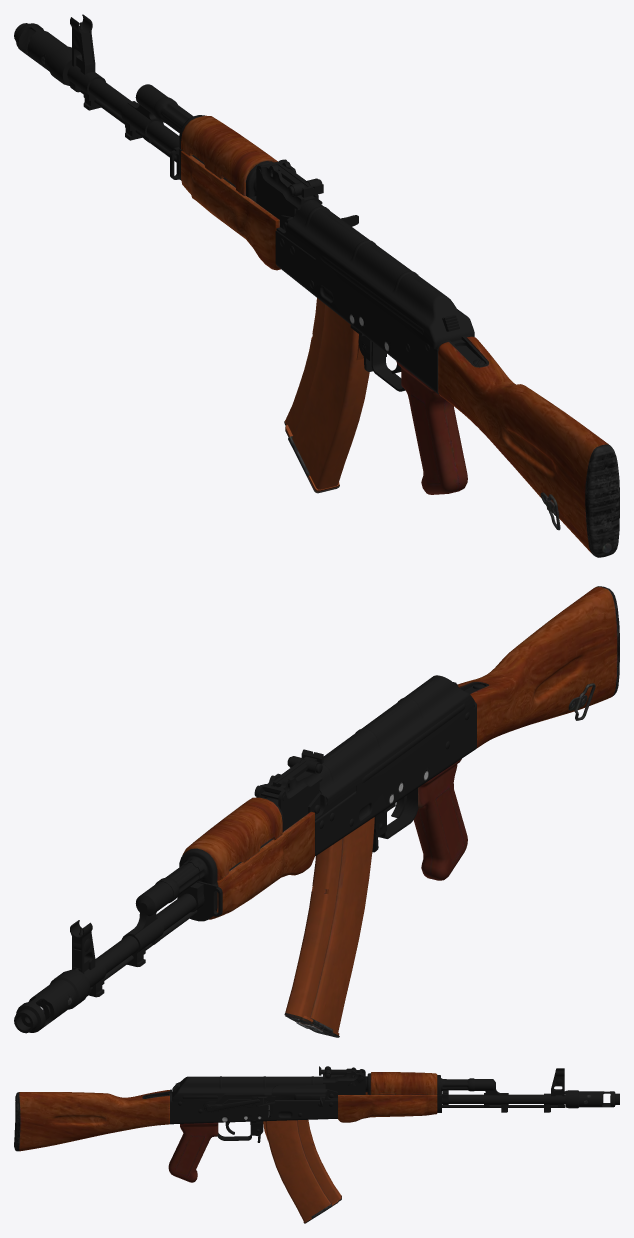
File: ak74_wood.glb
3 views of the same model, one above another, from view 1: azimuth 30°, elevation 25°; view 2: azimuth 150°, elevation 25°; view 3: azimuth 270°, elevation 25° (orthographic). The views are drawn at different scales.
Visible parts, largest first — view 1: AK-74_body.005, AK-74_wooden_stock.001, AK-74_bak_mag30.001, AK-74_wooden_furniture.001, AK-74_grip.002; view 2: AK-74_body.005, AK-74_wooden_stock.001, AK-74_bak_mag30.001, AK-74_wooden_furniture.001, AK-74_grip.002; view 3: AK-74_body.005, AK-74_wooden_stock.001, AK-74_bak_mag30.001, AK-74_wooden_furniture.001, AK-74_grip.002.
Boxes of the visible parts, left/top/right/bottom form: AK-74_body.005: left=14, top=14, right=488, bottom=394; AK-74_wooden_stock.001: left=438, top=336, right=619, bottom=557; AK-74_bak_mag30.001: left=284, top=298, right=369, bottom=493; AK-74_wooden_furniture.001: left=181, top=115, right=280, bottom=270; AK-74_grip.002: left=396, top=361, right=467, bottom=494; AK-74_body.005: left=14, top=675, right=488, bottom=1033; AK-74_wooden_stock.001: left=457, top=586, right=619, bottom=748; AK-74_bak_mag30.001: left=284, top=817, right=374, bottom=1037; AK-74_wooden_furniture.001: left=182, top=797, right=314, bottom=919; AK-74_grip.002: left=413, top=759, right=467, bottom=880; AK-74_body.005: left=142, top=1066, right=619, bottom=1142; AK-74_wooden_stock.001: left=14, top=1090, right=169, bottom=1151; AK-74_bak_mag30.001: left=263, top=1120, right=341, bottom=1223; AK-74_wooden_furniture.001: left=338, top=1072, right=437, bottom=1122; AK-74_grip.002: left=168, top=1122, right=218, bottom=1182.
Size of the model in its own units: 0.0682 by 0.2612 by 0.9415.
3 materials, 3 textured.
